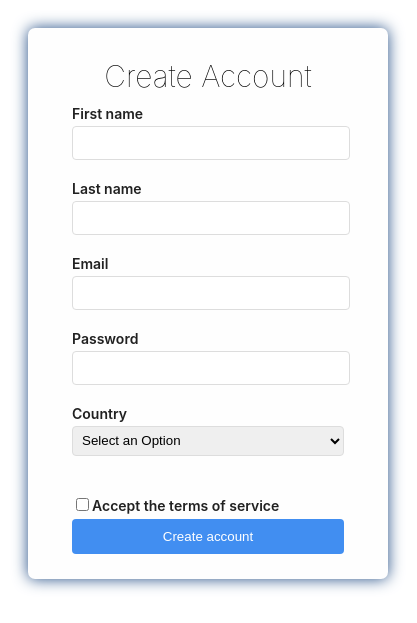
Test: <CreateAccountForm> › Can't submit incomplete form
Type "Name" into the field labelled "First name" at (211, 143), box [72, 126, 350, 160]
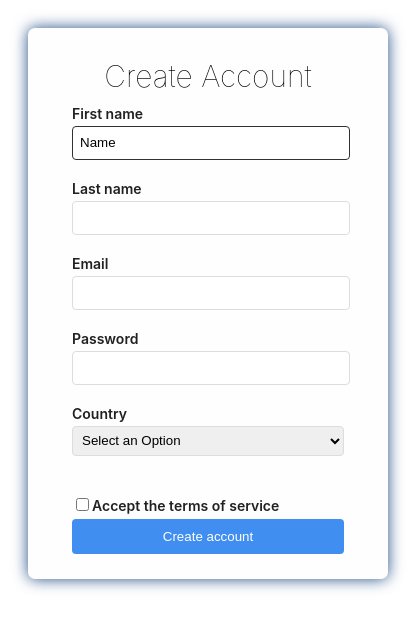
Click the button at (208, 537), box [72, 519, 344, 554]
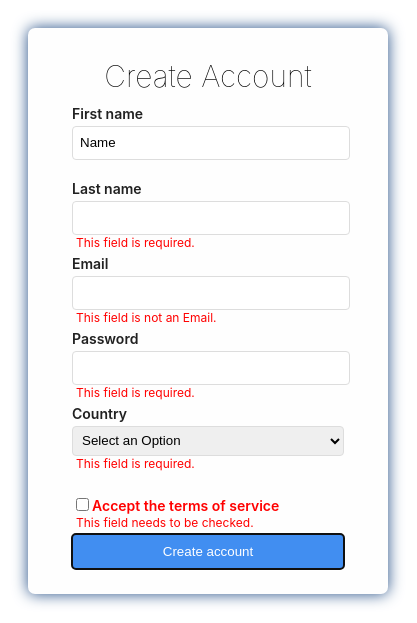
Now the number of elements with test id "errorMessage" is 5, box [76, 235, 195, 250]; [76, 310, 217, 325]; [76, 385, 195, 400]; [76, 456, 195, 471]; [76, 515, 254, 530]
